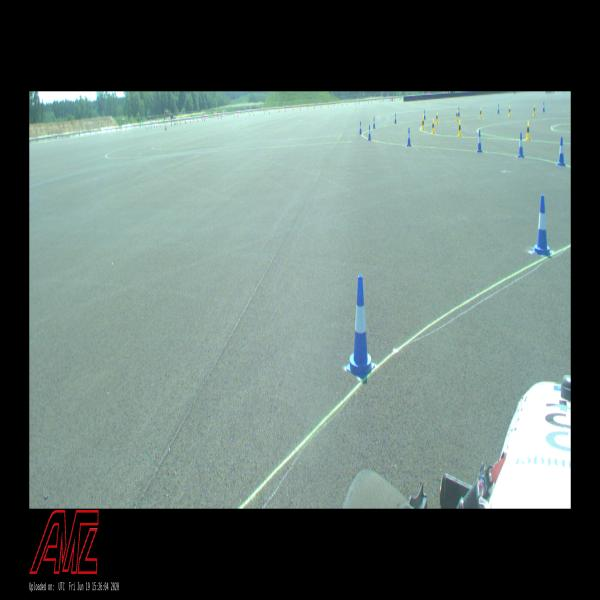blue_cone: (346, 274, 375, 379), (532, 195, 552, 257), (557, 137, 566, 166), (518, 132, 524, 158), (477, 130, 482, 152), (407, 128, 411, 146), (368, 125, 371, 140), (359, 122, 362, 134), (394, 113, 397, 124), (423, 110, 426, 120), (542, 102, 545, 112), (497, 104, 500, 114), (373, 117, 375, 128), (458, 107, 460, 116)
yellow_cone: (526, 121, 530, 140), (458, 120, 462, 136), (431, 119, 435, 134), (421, 118, 425, 130), (422, 115, 425, 127), (479, 108, 482, 118), (533, 105, 536, 115), (436, 112, 438, 124), (456, 110, 458, 121), (508, 106, 510, 116)
